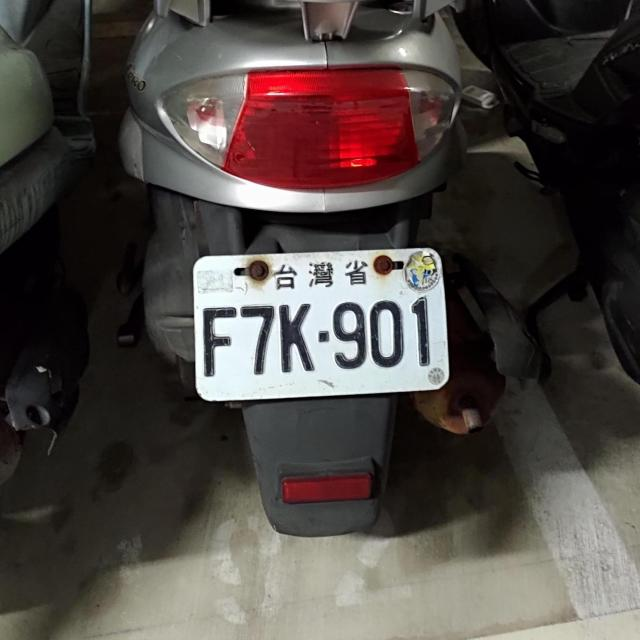W: (185, 240, 452, 404)
